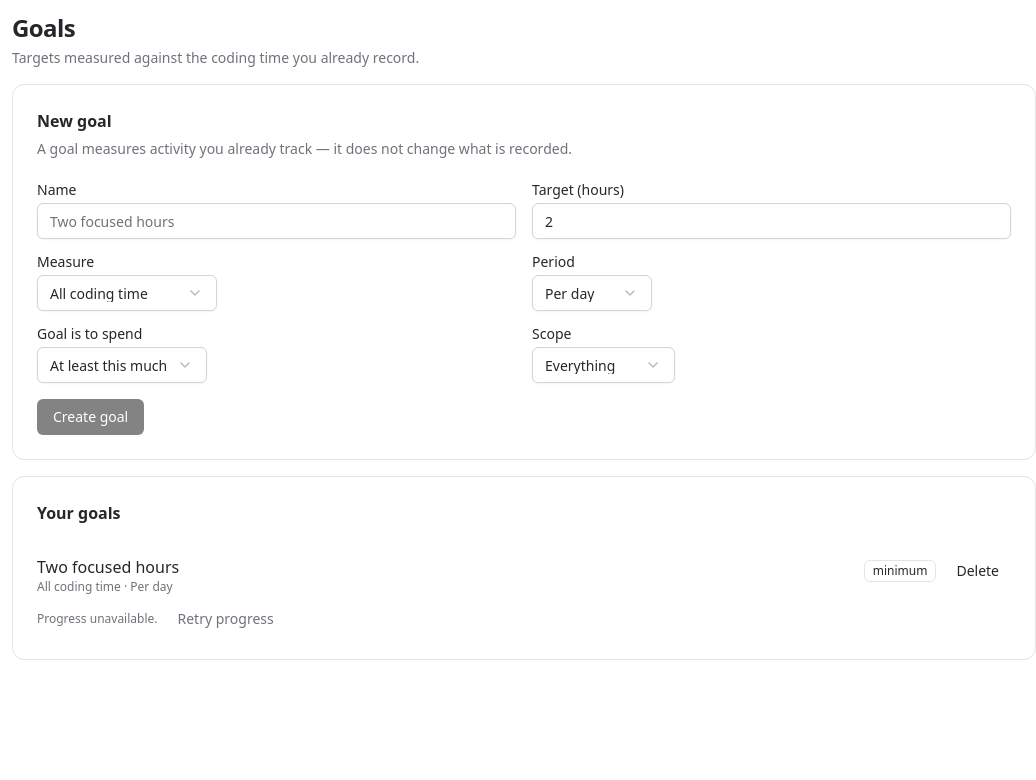
Goals page › reports a failed progress read as unavailable rather than claiming no recorded activity
Expected: the text "Progress unavailable." is shown, [37,611,158,627]
Click the button "Retry progress". click: (226, 619)
box: [166,603,286,635]
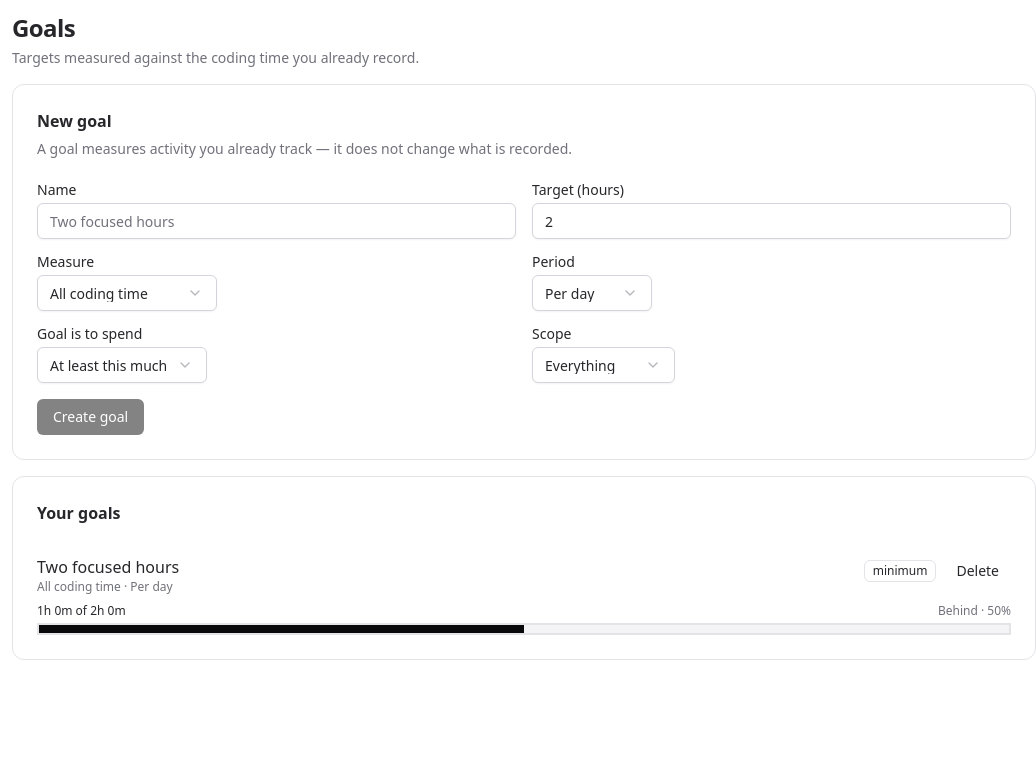
Expected: the text "1h 0m of 2h 0m" is shown, [37,603,126,619]
